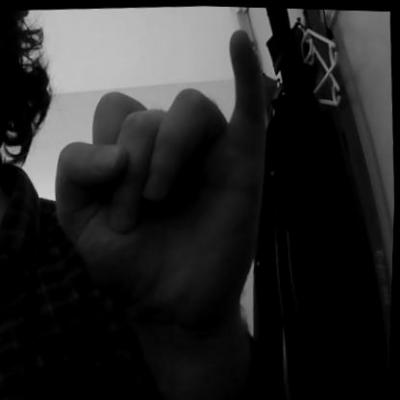hand: (45, 14, 278, 331)
